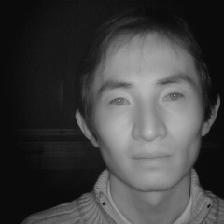normal: (69, 18, 220, 200)
